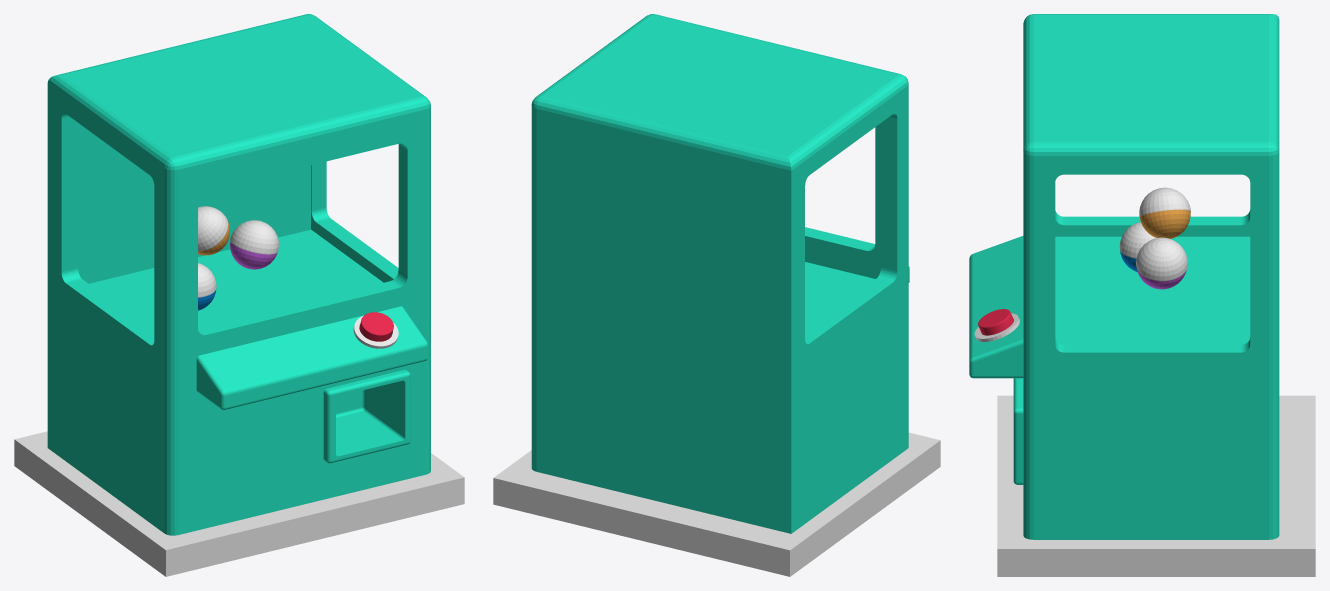
Rendered from dispenser.glb.
3 renders of one model, left to right at view 1: azimuth 30°, elevation 25°; view 2: azimuth 150°, elevation 25°; view 3: azimuth 270°, elevation 25°, orthographic. The views are drawn at different scales.
Visible parts, largest first — view 1: Cube.003, Cube.001, Sphere.004, Sphere.003, Cylinder.001, Sphere.005; view 2: Cube.003, Cube.001; view 3: Cube.003, Cube.001, Sphere.004, Sphere.002, Sphere.003, Sphere, Cylinder.001.
Boxes of the visible parts, left/top/right/bottom form: Cube.003: left=47, top=14, right=430, bottom=535; Cube.001: left=14, top=431, right=464, bottom=576; Sphere.004: left=230, top=220, right=278, bottom=254; Sphere.003: left=198, top=206, right=228, bottom=251; Cylinder.001: left=359, top=312, right=393, bottom=341; Sphere.005: left=230, top=242, right=277, bottom=269; Cube.003: left=531, top=14, right=909, bottom=533; Cube.001: left=493, top=432, right=940, bottom=576; Cube.003: left=969, top=14, right=1279, bottom=539; Cube.001: left=997, top=395, right=1315, bottom=576; Sphere.004: left=1136, top=237, right=1187, bottom=281; Sphere.002: left=1140, top=209, right=1190, bottom=238; Sphere.003: left=1139, top=187, right=1190, bottom=217; Sphere: left=1119, top=222, right=1156, bottom=258; Cylinder.001: left=978, top=309, right=1013, bottom=335.
Bounding box in the file's own units: 2.83 × 3.63 × 2.7.
